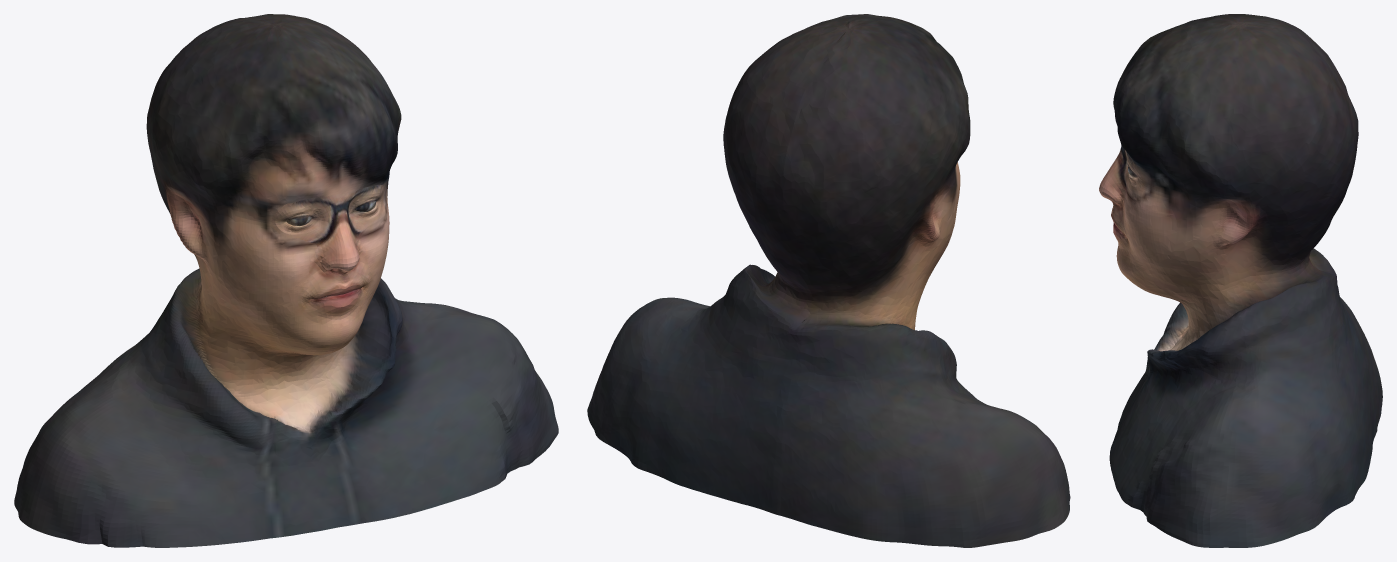
Rendered from jiale.glb.
3 views of the same model, side by side, from view 1: azimuth 30°, elevation 25°; view 2: azimuth 150°, elevation 25°; view 3: azimuth 270°, elevation 25° (orthographic). The views are drawn at different scales.
Visible parts, largest first — view 1: Node1; view 2: Node1; view 3: Node1.
Part boxes in pixels (left/top/right/bottom): Node1: left=14, top=14, right=558, bottom=547; Node1: left=587, top=14, right=1070, bottom=547; Node1: left=1099, top=14, right=1382, bottom=547.
Size of the model in its own units: 0.4509 by 0.3916 by 0.2463.
Materials: 1 (1 with a texture image).
